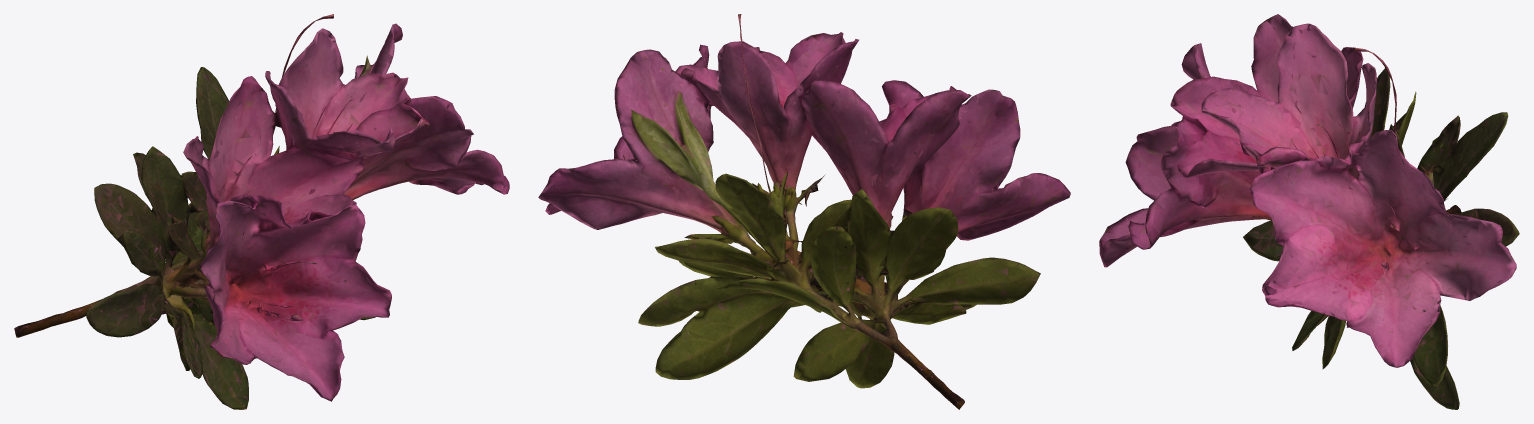
The model's file is oomurasaki_azalea_ascii_ready.glb.
3 renders of one model, left to right at view 1: azimuth 30°, elevation 25°; view 2: azimuth 150°, elevation 25°; view 3: azimuth 270°, elevation 25°, orthographic. The views are drawn at different scales.
Parts seen in each view (by area): view 1: AzaleaSpecimenMain; view 2: AzaleaSpecimenMain; view 3: AzaleaSpecimenMain.
Part boxes in pixels (x1,y1,x2,y2): AzaleaSpecimenMain: [14, 14, 509, 409]; AzaleaSpecimenMain: [538, 14, 1070, 409]; AzaleaSpecimenMain: [1099, 14, 1519, 409].
Bounding box in the file's own units: 5 × 3.87 × 3.94.
Materials: 1 (1 with a texture image).
